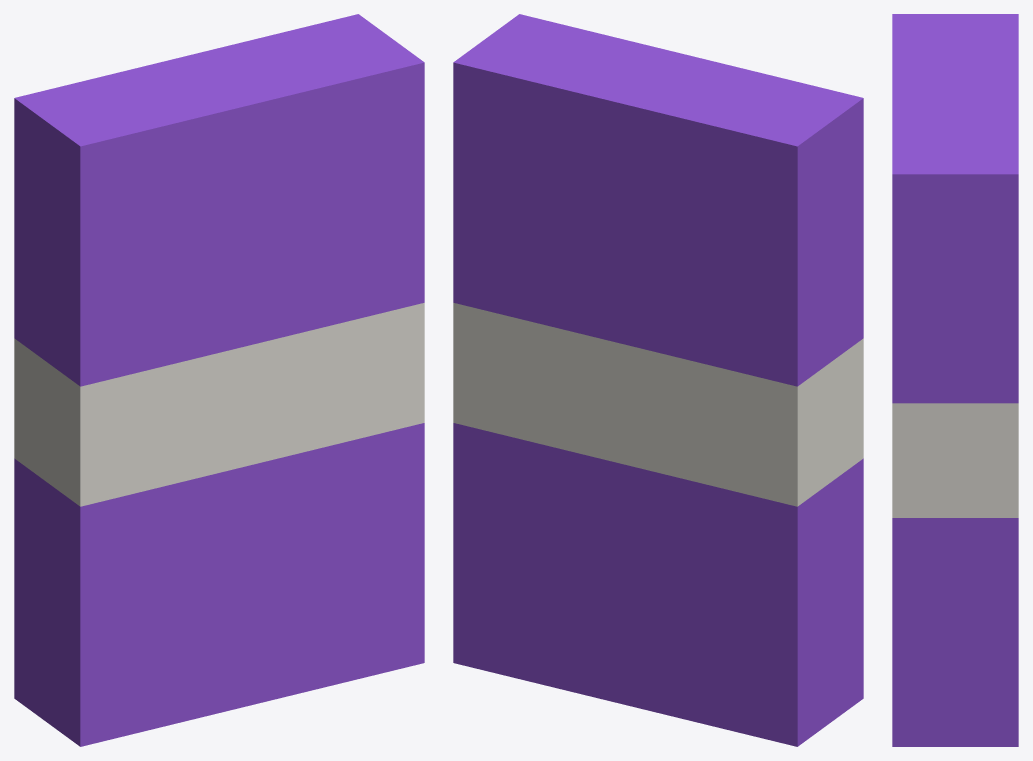
The model's file is cm_cloth_4.glb.
3 renders of one model, left to right at view 1: azimuth 30°, elevation 25°; view 2: azimuth 150°, elevation 25°; view 3: azimuth 270°, elevation 25°, orthographic. The views are drawn at different scales.
Visible parts, largest first — view 1: cm_cloth_4_body; view 2: cm_cloth_4_body; view 3: cm_cloth_4_body.
Part boxes in pixels (<box>): cm_cloth_4_body: <box>14,14,424,746</box>; cm_cloth_4_body: <box>453,14,863,746</box>; cm_cloth_4_body: <box>892,14,1018,746</box>.
Size of the model in its own units: 0.1875 by 0.3125 by 0.0625.
Materials: 1 (1 with a texture image).
